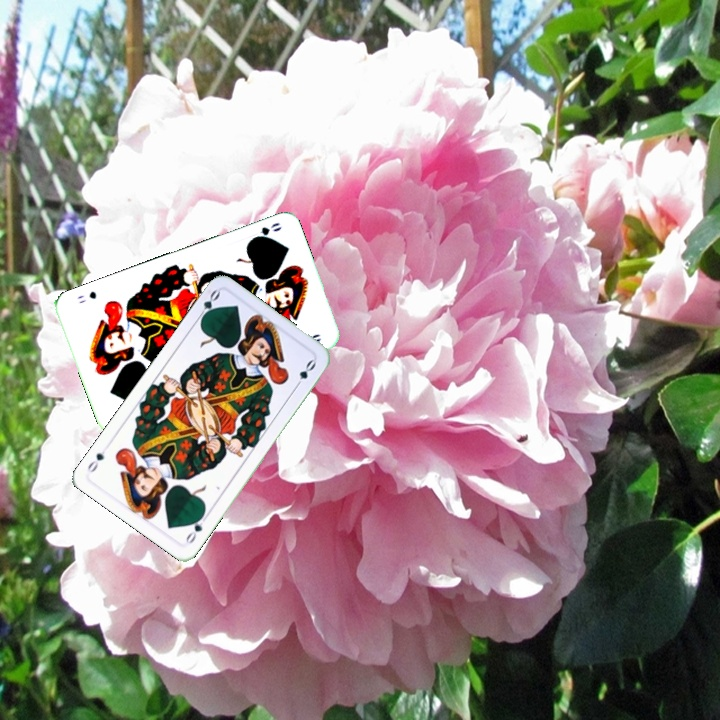GO: (193, 286, 223, 324), (182, 509, 211, 546), (246, 218, 284, 244)
